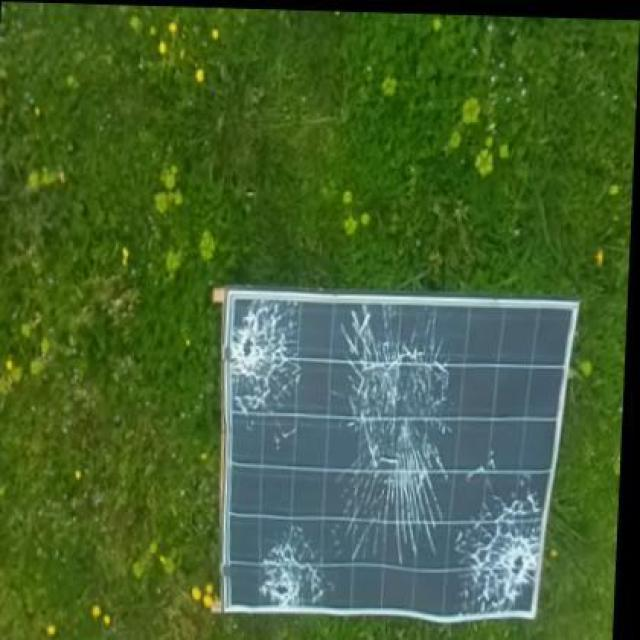cracked: (218, 285, 582, 628)
